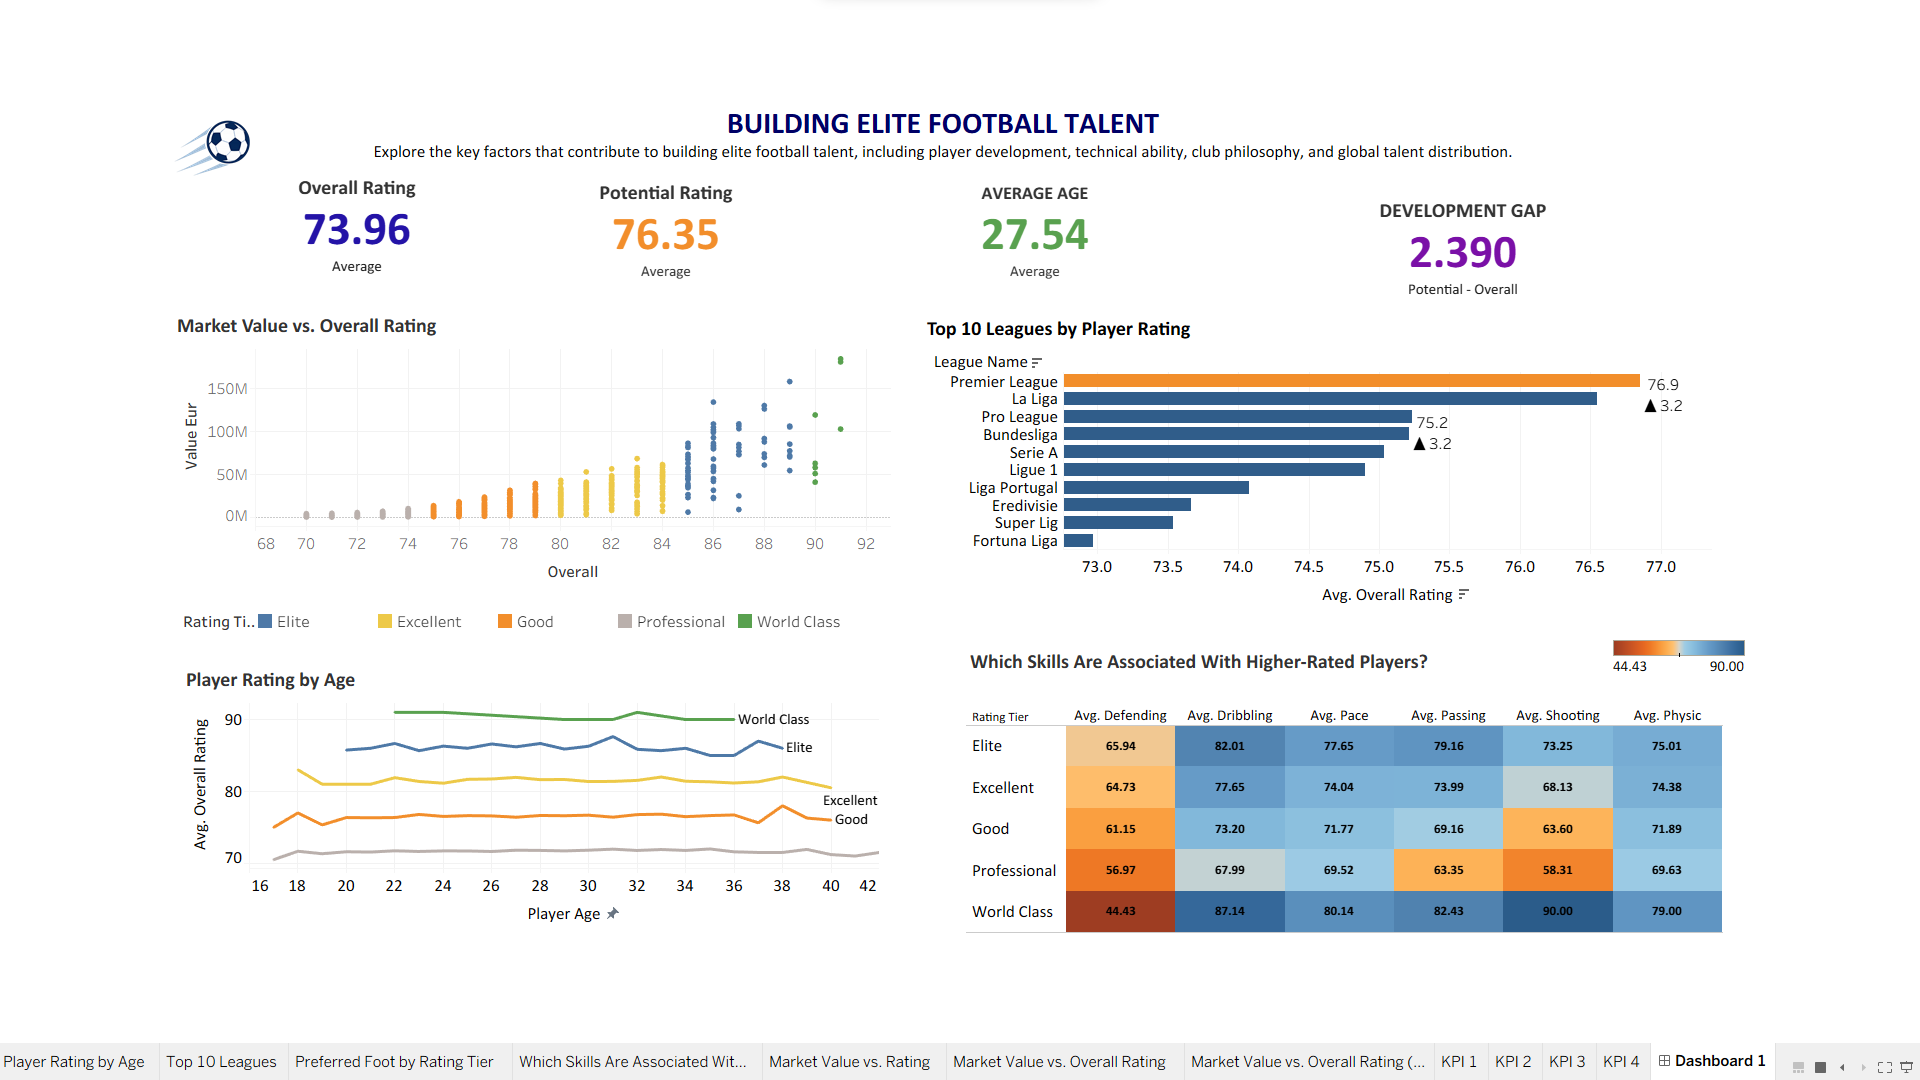

The dashboard page shown, as its layout file describes it:
{"tool":"tableau","page":{"name":"Dashboard 1","canvas":[1600,850],"ordinal":0},"visuals":[{"type":"text","box":[127,7.6,1312,58.6]},{"type":"image","param":"Image/5d50005d-ca05-4f9a-b409-164549f047ac.png","box":[12,15,81,75]},{"type":"worksheet","title":"KPI 3","mark":"Automatic","box":[784,63,533,269]},{"type":"worksheet","title":"KPI 1","mark":"Automatic","box":[127,79,196,105]},{"type":"worksheet","title":"KPI 2","mark":"Automatic","box":[426,84,266,104]},{"type":"worksheet","title":"KPI 4","mark":"Automatic","box":[1213,102,204,110.5]},{"type":"worksheet","title":"Market Value vs. Overall Rating","mark":"Automatic","rows":["value_eur"],"cols":["overall"],"box":[13,213,718,280]},{"type":"worksheet","title":"Top 10 Leagues","mark":"Automatic","rows":["league_name"],"cols":["overall"],"box":[763,216,789,300]},{"type":"legend","title":"Market Value vs. Overall Rating","param":"[federated.1m8gvws1mo025s16i9jxb0s38c3x].[none:rating_tier:nk]","box":[23,515,715,39]},{"type":"legend","title":"Which Skills Are Associated With Higher-Rated Players?","param":"[federated.1m8gvws1mo025s16i9jxb0s38c3x].[Multiple Values]","box":[1449,520,140,62]},{"type":"worksheet","title":"Which Skills Are Associated With Higher-Rated Players?","mark":"Square","rows":["rating_tier"],"box":[806,549,757,288]},{"type":"worksheet","title":"Player Rating by Age","mark":"Line","rows":["overall"],"cols":["age"],"box":[22,567,697,268]}]}

Visuals, with their boxes on the page's 1600x850 design canvas (x1, y1, x2, y2). These are canvas units, not pixel positions in the 1920x1080 screenshot, which may show the page scaled, cropped or inside an application window:
text: locate(127, 8, 1439, 66)
image: locate(12, 15, 93, 90)
"KPI 3" worksheet: locate(784, 63, 1317, 332)
"KPI 1" worksheet: locate(127, 79, 323, 184)
"KPI 2" worksheet: locate(426, 84, 692, 188)
"KPI 4" worksheet: locate(1213, 102, 1417, 212)
"Market Value vs. Overall Rating" worksheet: locate(13, 213, 731, 493)
"Top 10 Leagues" worksheet: locate(763, 216, 1552, 516)
"Market Value vs. Overall Rating" legend: locate(23, 515, 738, 554)
"Which Skills Are Associated With Higher-Rated Players?" legend: locate(1449, 520, 1589, 582)
"Which Skills Are Associated With Higher-Rated Players?" worksheet (Square marks): locate(806, 549, 1563, 837)
"Player Rating by Age" worksheet (Line marks): locate(22, 567, 719, 835)
